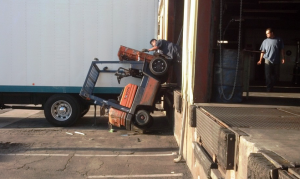damaging: (65, 30, 189, 139)
